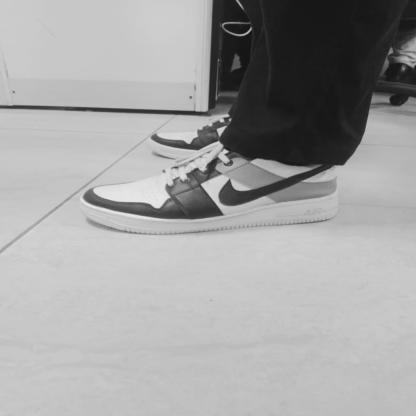ankle: (280, 168, 283, 170)
heel: (331, 193, 334, 196)
left_foot: (82, 148, 340, 234)
pinky: (122, 207, 125, 209)
toe: (96, 188, 100, 190)
